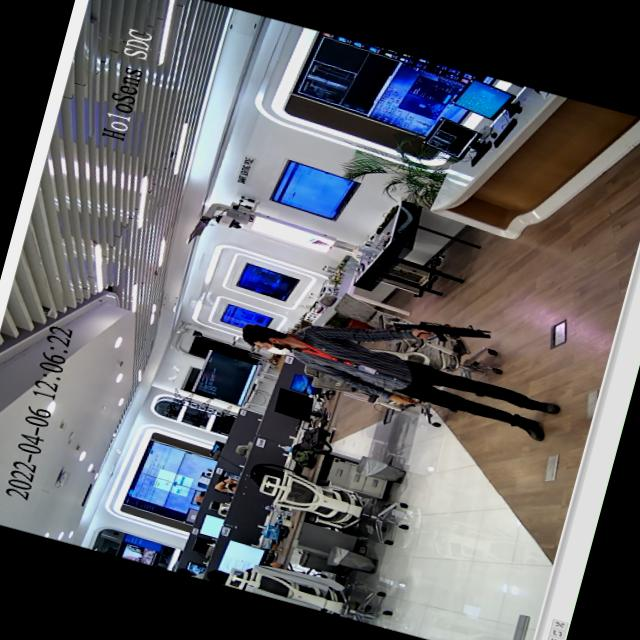long weapon: (384, 300, 501, 360)
